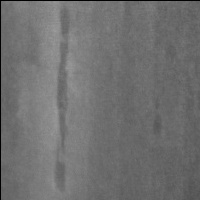inclusion: (2, 4, 35, 126), (51, 2, 76, 157), (49, 135, 71, 193), (148, 87, 167, 138)
